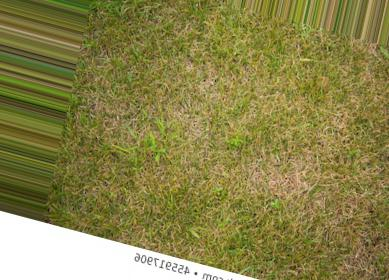patch: (152, 77, 330, 232)
